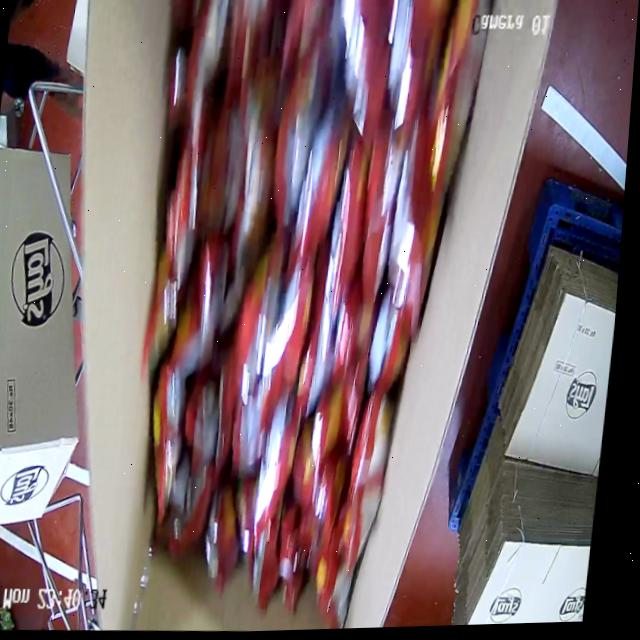MASALA: (118, 0, 460, 607)
